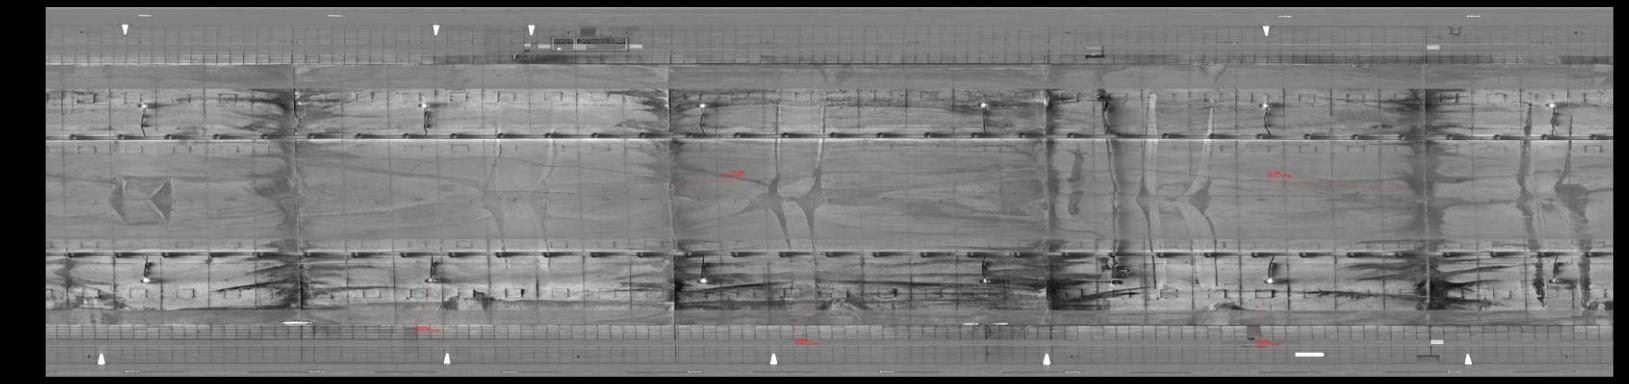light: (1252, 99, 1277, 113), (420, 273, 442, 287), (135, 273, 155, 289), (132, 97, 154, 110), (690, 99, 714, 110), (1542, 98, 1561, 111), (1261, 273, 1280, 286), (1545, 273, 1564, 286), (416, 99, 437, 110), (693, 274, 711, 287), (973, 100, 992, 111), (973, 276, 994, 285)
